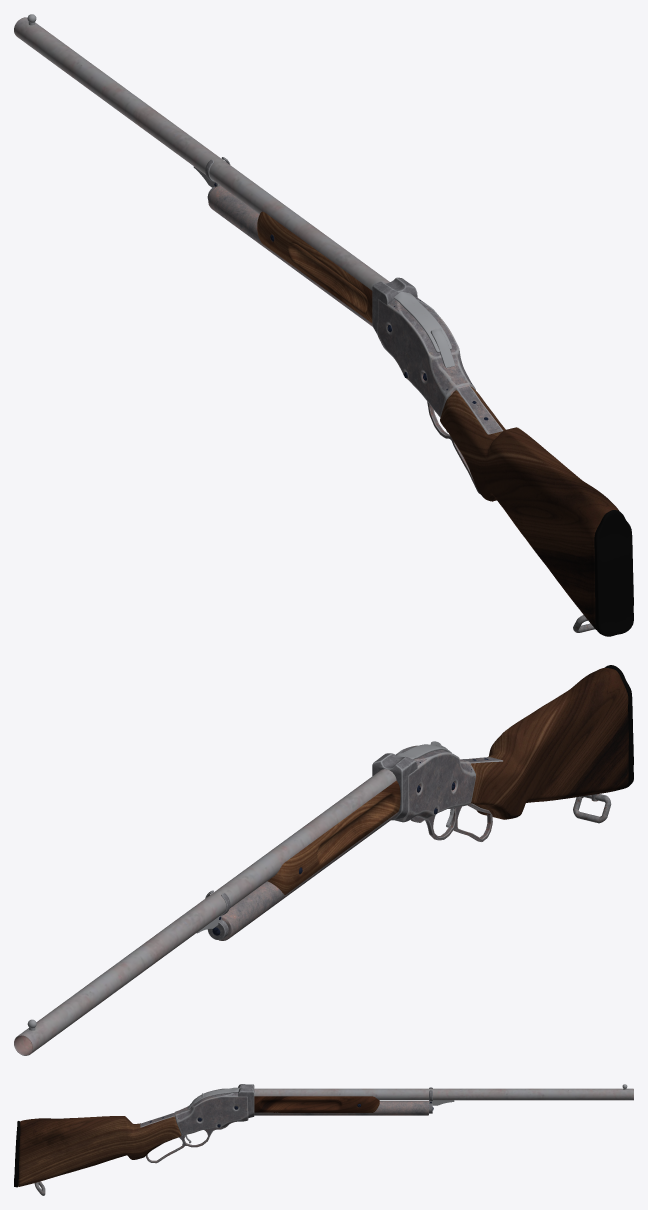
Rendered from winchester-1887.glb.
3 views of the same model, one above another, from view 1: azimuth 30°, elevation 25°; view 2: azimuth 150°, elevation 25°; view 3: azimuth 270°, elevation 25° (orthographic). The views are drawn at different scales.
Parts seen in each view (by area): view 1: Stock_low, Barrel_low, Receiver_low, Pat_low, Forearm_low, Magazine_low, Ejection_port_low, Integrater_low; view 2: Stock_low, Barrel_low, Forearm_low, Receiver_low, Magazine_low, Integrater_low, Trigger_guard_low, Pat_low, Ring_low; view 3: Stock_low, Barrel_low, Receiver_low, Forearm_low, Magazine_low, Integrater_low, Trigger_guard_low, Pat_low, Ejection_port_low.
Part boxes in pixels (x1,y1,x2,y2): Stock_low: [440, 387, 619, 629]; Barrel_low: [14, 17, 389, 290]; Receiver_low: [377, 296, 503, 434]; Pat_low: [594, 510, 633, 636]; Forearm_low: [257, 211, 372, 322]; Magazine_low: [208, 185, 372, 326]; Ejection_port_low: [394, 292, 451, 352]; Integrater_low: [372, 277, 417, 334]; Stock_low: [471, 667, 628, 819]; Barrel_low: [14, 769, 396, 1055]; Forearm_low: [267, 780, 400, 894]; Receiver_low: [395, 745, 502, 822]; Magazine_low: [219, 811, 398, 940]; Integrater_low: [372, 753, 417, 820]; Trigger_guard_low: [410, 803, 492, 841]; Pat_low: [605, 665, 633, 788]; Ring_low: [573, 794, 611, 823]; Stock_low: [18, 1116, 181, 1186]; Barrel_low: [254, 1088, 633, 1100]; Receiver_low: [140, 1088, 248, 1135]; Forearm_low: [254, 1096, 379, 1112]; Magazine_low: [254, 1101, 428, 1115]; Integrater_low: [238, 1084, 254, 1118]; Trigger_guard_low: [146, 1125, 228, 1163]; Pat_low: [14, 1121, 20, 1187]; Ejection_port_low: [193, 1087, 239, 1104].
Size of the model in its own units: 0.0699 by 0.3869 by 2.
Materials: 18 (16 with a texture image).
